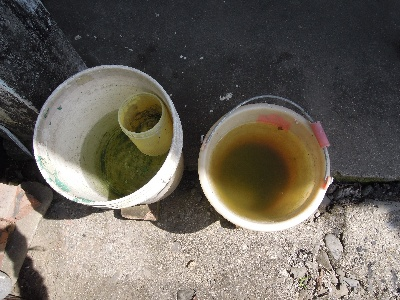bucket: (31, 62, 184, 208), (195, 93, 335, 234), (117, 91, 173, 157)
